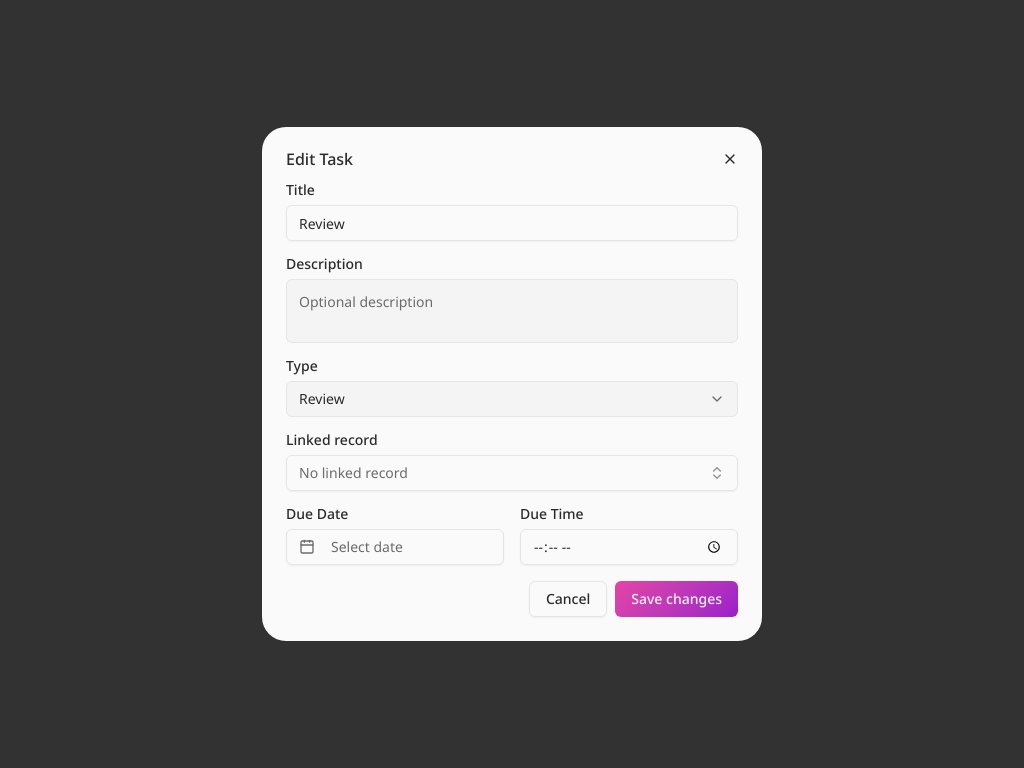
Test case: TaskEditModal related record › offers every record type while the permission lookup is unavailable
This screenshot has width=1024, height=768.
Click the button "No linked record": (353, 472) [286,455,738,491]
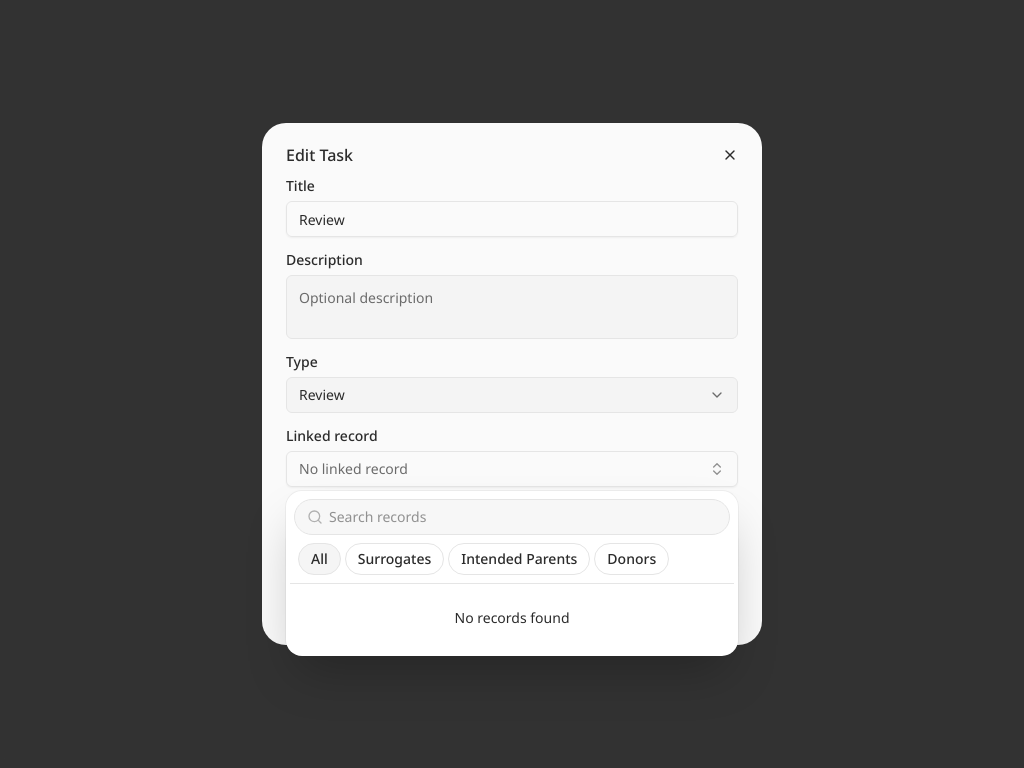
Check: the button "Intended Parents" is shown, box [448,543,590,575]
